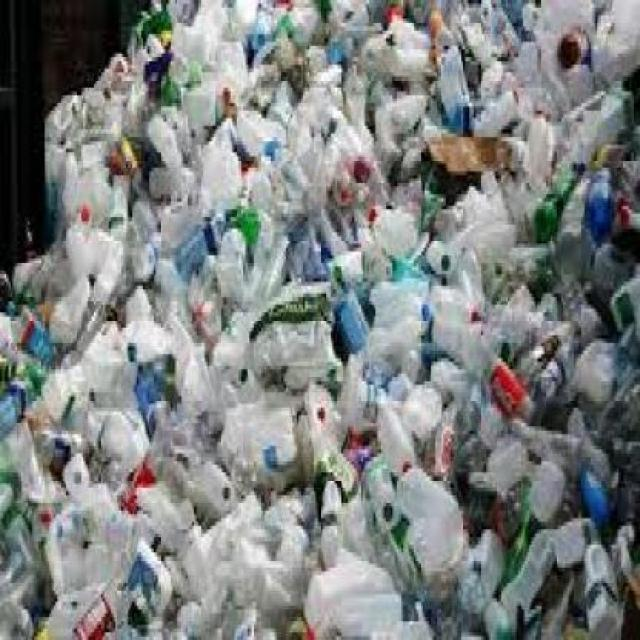garbage: (5, 5, 639, 638)
